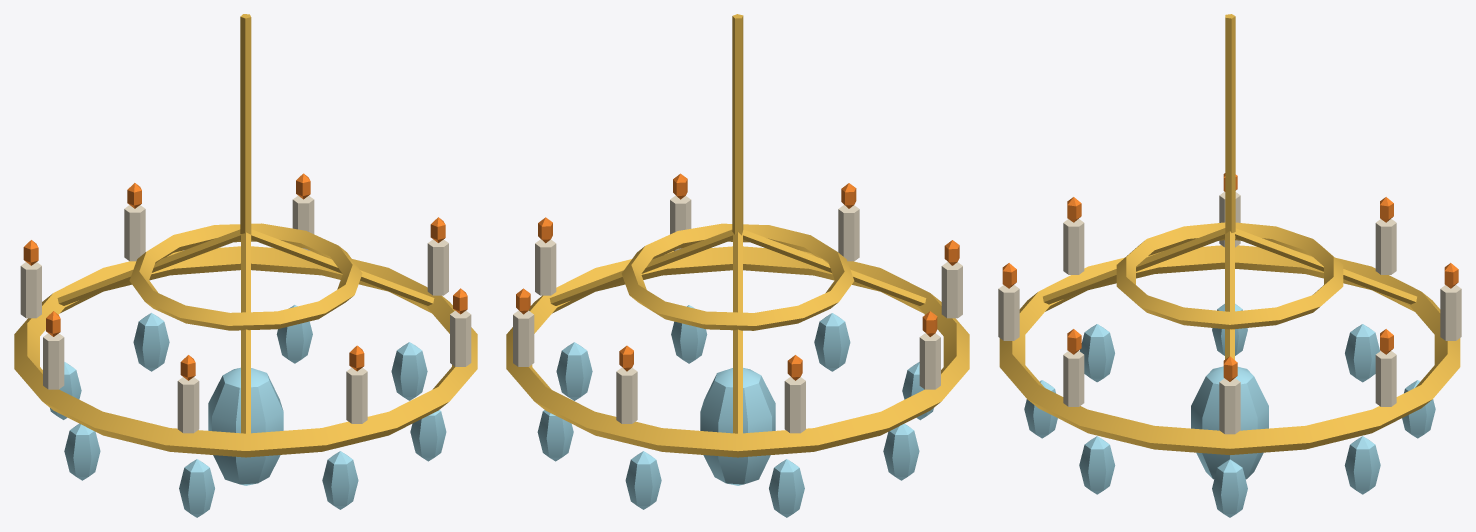
Rendered from PR_Decor_KristalAvize.fbx.
3 views of the same model, side by side, from view 1: azimuth 30°, elevation 25°; view 2: azimuth 150°, elevation 25°; view 3: azimuth 270°, elevation 25° (orthographic).
Visible parts, largest first — view 1: PR_Decor_KristalAvize; view 2: PR_Decor_KristalAvize; view 3: PR_Decor_KristalAvize.
Part boxes in pixels (box(x1,y1,x2,y2)): PR_Decor_KristalAvize: box(14, 14, 477, 517); PR_Decor_KristalAvize: box(506, 14, 969, 517); PR_Decor_KristalAvize: box(998, 14, 1461, 517).
Size of the model in its own units: 0.572 by 0.63 by 0.566.
